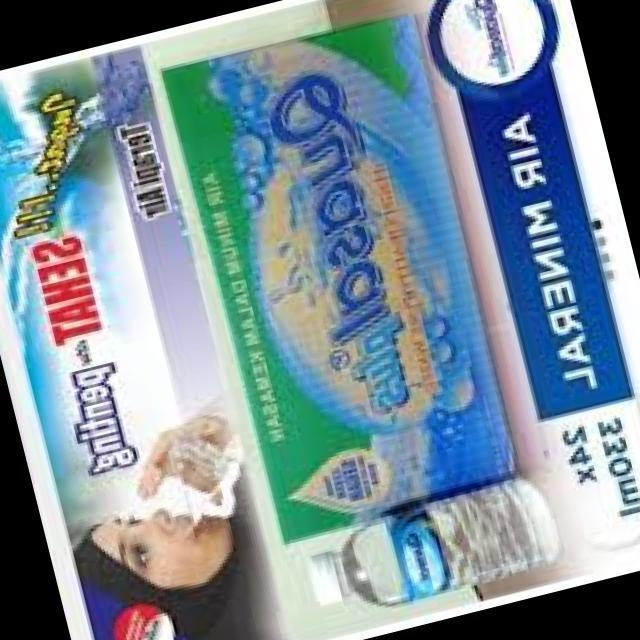good: (294, 476, 570, 633)
